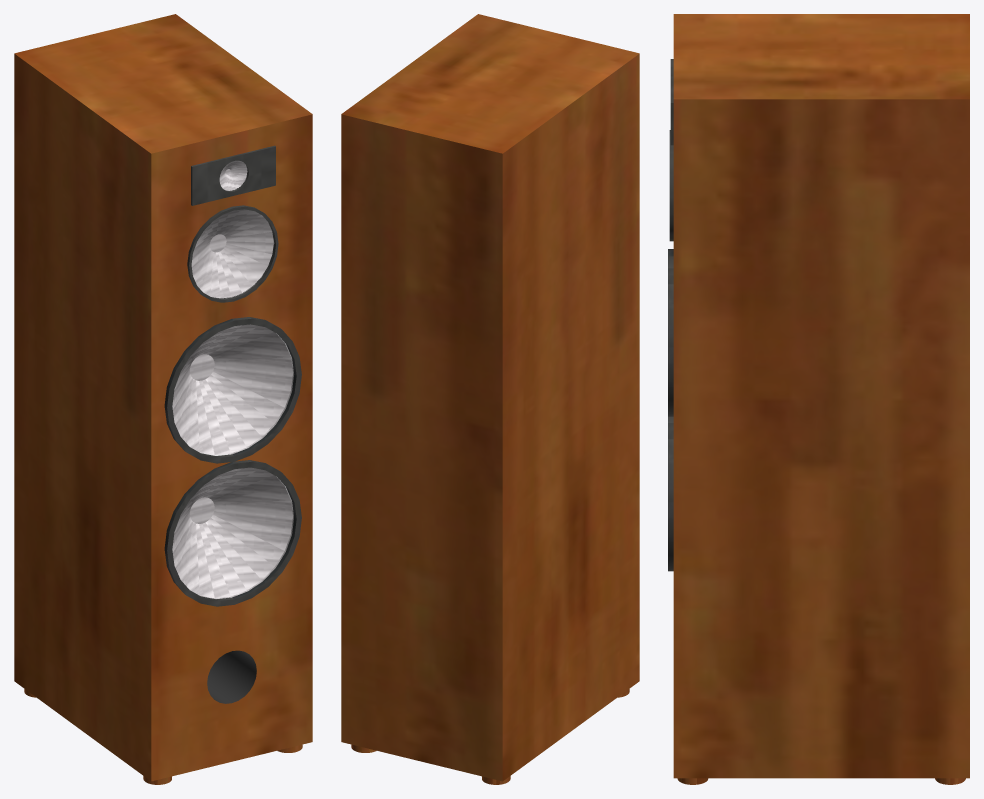
The model's file is Speaker.fbx.
3 views of the same model, side by side, from view 1: azimuth 30°, elevation 25°; view 2: azimuth 150°, elevation 25°; view 3: azimuth 270°, elevation 25° (orthographic). The views are drawn at different scales.
Visible parts, largest first — view 1: Front_speaker1, Speaker_conus_magneet_zonder_rand2, Speaker_conus_magneet_zonder_rand1, spk__mid1, Rand_100mm_inside_108_5_out__7mm_dik1, Rand_100mm_inside_108_5_out__7mm_dik2, tweeter1; view 2: Front_speaker1; view 3: Front_speaker1, Rand_100mm_inside_108_5_out__7mm_dik1, Rand_100mm_inside_108_5_out__7mm_dik2.
Boxes of the visible parts, x1=… form: Front_speaker1: x1=14, y1=14, x2=312, y2=784; Speaker_conus_magneet_zonder_rand2: x1=172, y1=467, x2=293, y2=598; Speaker_conus_magneet_zonder_rand1: x1=172, y1=324, x2=293, y2=455; spk__mid1: x1=191, y1=209, x2=274, y2=298; Rand_100mm_inside_108_5_out__7mm_dik1: x1=164, y1=317, x2=301, y2=463; Rand_100mm_inside_108_5_out__7mm_dik2: x1=164, y1=460, x2=301, y2=606; tweeter1: x1=219, y1=160, x2=247, y2=190; Front_speaker1: x1=341, y1=14, x2=639, y2=784; Front_speaker1: x1=669, y1=14, x2=969, y2=784; Rand_100mm_inside_108_5_out__7mm_dik1: x1=668, y1=249, x2=673, y2=416; Rand_100mm_inside_108_5_out__7mm_dik2: x1=668, y1=416, x2=673, y2=571.
Bounding box in the file's own units: 10.24 × 38.46 × 15.31.
